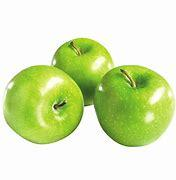apple: (86, 57, 176, 144), (0, 65, 86, 142), (47, 24, 109, 104)
